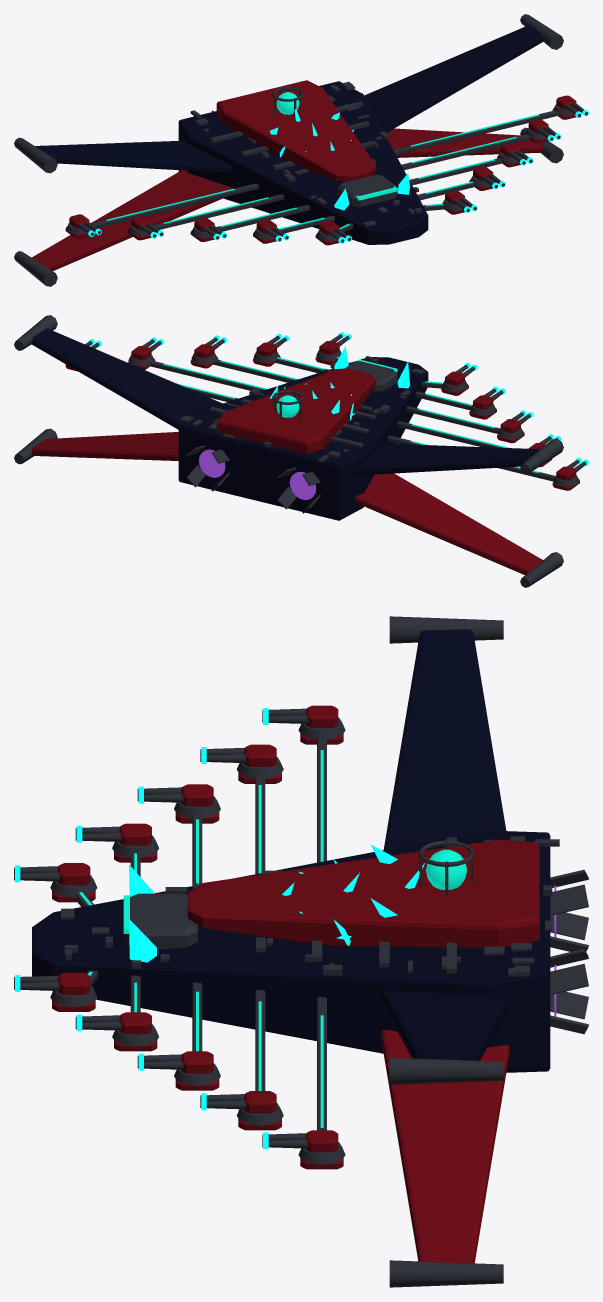
The model's file is ship_riftbreaker.glb.
The picture shows the model from 3 angles, top to bottom: view 1: azimuth 30°, elevation 25°; view 2: azimuth 150°, elevation 25°; view 3: azimuth 270°, elevation 25°; orthographic projection. The views are drawn at different scales.
Visible parts, largest first — view 1: primary, secondary, trim, glow, accent; view 2: primary, secondary, trim, glow, accent, engine; view 3: primary, secondary, trim, glow, accent.
Boxes of the visible parts, bbox=[...] form: primary: bbox=[35, 25, 543, 244]; secondary: bbox=[31, 80, 579, 270]; trim: bbox=[14, 14, 587, 286]; glow: bbox=[106, 92, 539, 229]; accent: bbox=[88, 109, 588, 243]; primary: bbox=[31, 328, 539, 520]; secondary: bbox=[31, 341, 579, 574]; trim: bbox=[14, 315, 586, 587]; glow: bbox=[163, 357, 539, 472]; accent: bbox=[88, 332, 588, 465]; engine: bbox=[199, 449, 316, 499]; primary: bbox=[32, 629, 550, 1072]; secondary: bbox=[52, 705, 539, 1263]; trim: bbox=[14, 616, 588, 1287]; glow: bbox=[79, 750, 467, 1127]; accent: bbox=[15, 708, 424, 1149].
Size of the model in its own units: 10.77 by 2.54 by 5.77.
